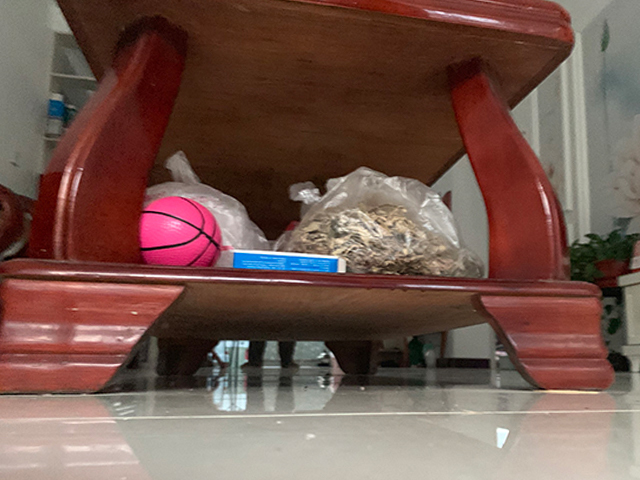table: (1, 1, 613, 396)
